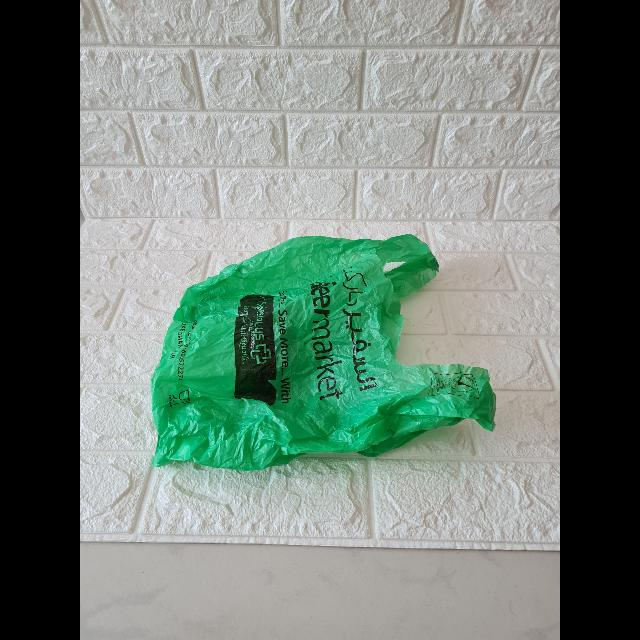plastic_bag: (149, 230, 497, 472)
